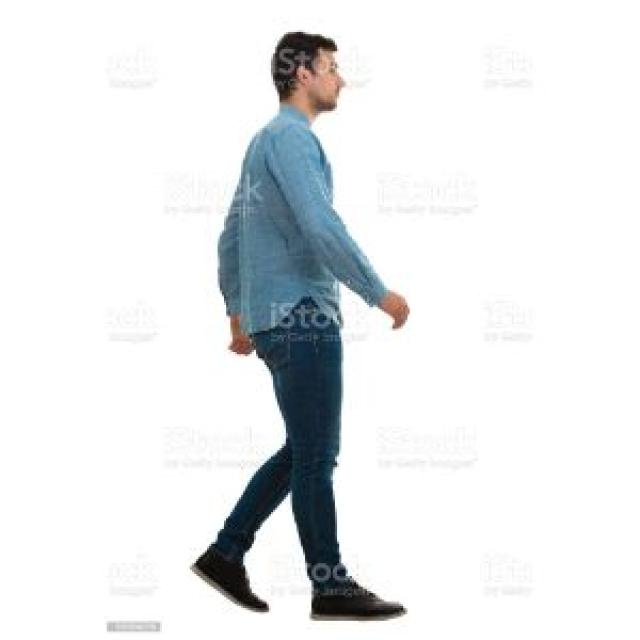nonfall: (204, 16, 417, 620)
